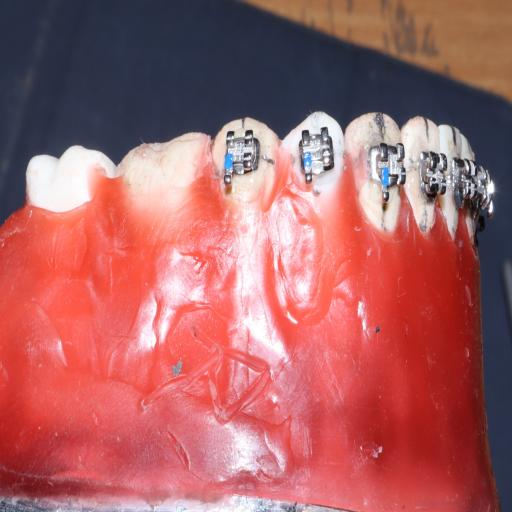correct_brace: (283, 110, 344, 199)
incorrect_brace: (300, 127, 333, 174)
